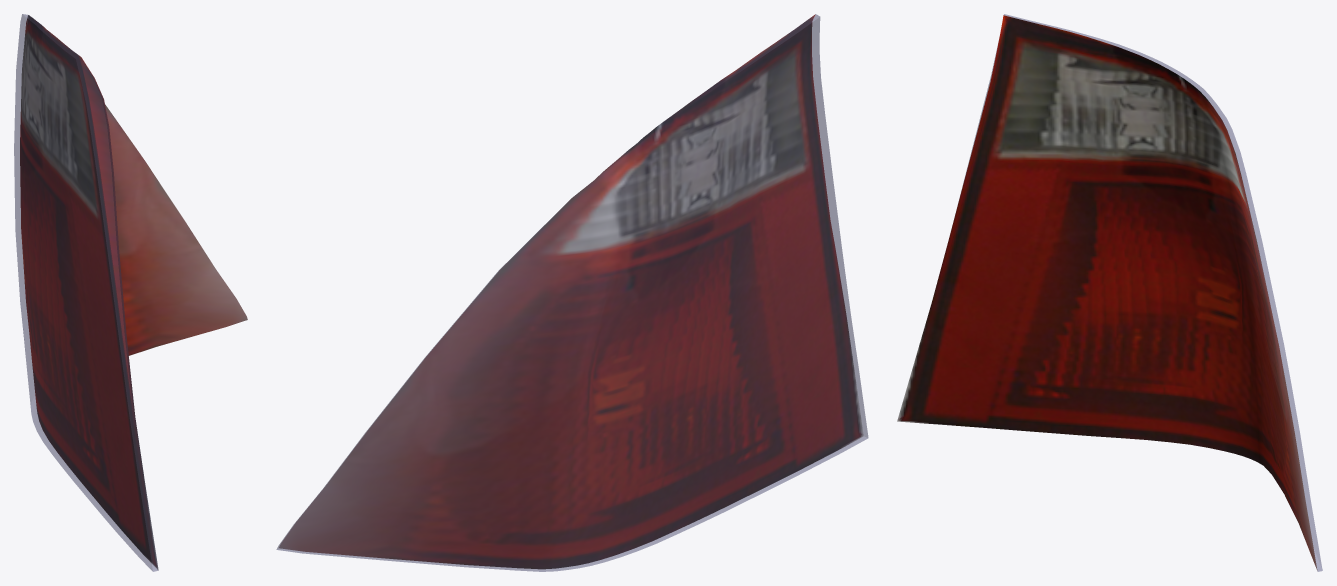
The picture shows the model from 3 angles, left to right: view 1: azimuth 30°, elevation 25°; view 2: azimuth 150°, elevation 25°; view 3: azimuth 270°, elevation 25°; orthographic projection. The views are drawn at different scales.
Parts seen in each view (by area): view 1: P158_541C_L_P158_541C_L_2_N, P158_541C_L_1_DTaSI_P158_541C_L; view 2: P158_541C_L_1_DTaSI_P158_541C_L, P158_541C_L_P158_541C_L_2_N; view 3: P158_541C_L_P158_541C_L_2_N, P158_541C_L_1_DTaSI_P158_541C_L.
Part boxes in pixels (x1,y1,x2,y2): P158_541C_L_P158_541C_L_2_N: (20, 15, 247, 570); P158_541C_L_1_DTaSI_P158_541C_L: (14, 14, 158, 571); P158_541C_L_1_DTaSI_P158_541C_L: (276, 14, 868, 571); P158_541C_L_P158_541C_L_2_N: (279, 14, 863, 569); P158_541C_L_P158_541C_L_2_N: (897, 15, 1317, 570); P158_541C_L_1_DTaSI_P158_541C_L: (958, 14, 1322, 571).
Size of the model in its own units: 25.66 by 33.26 by 31.23.
